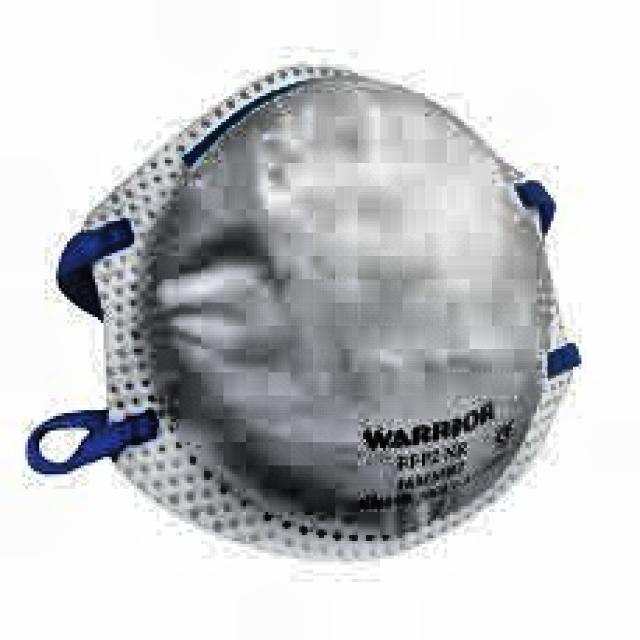trash: (30, 56, 572, 565)
